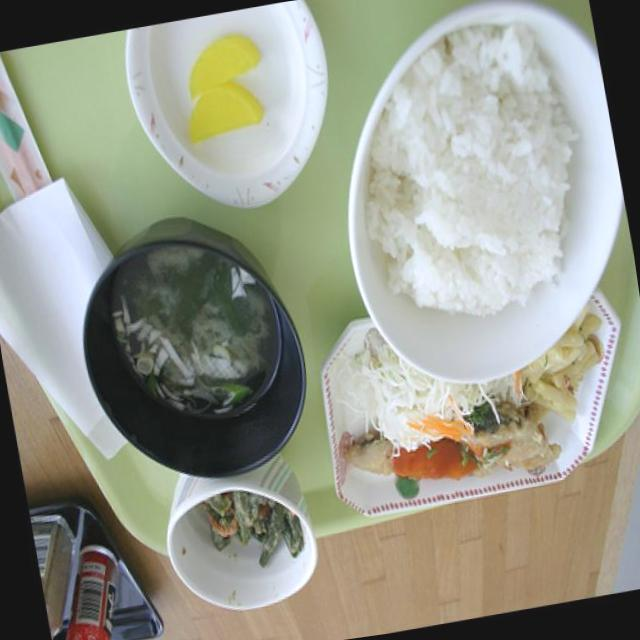Rice: (341, 22, 602, 350)
